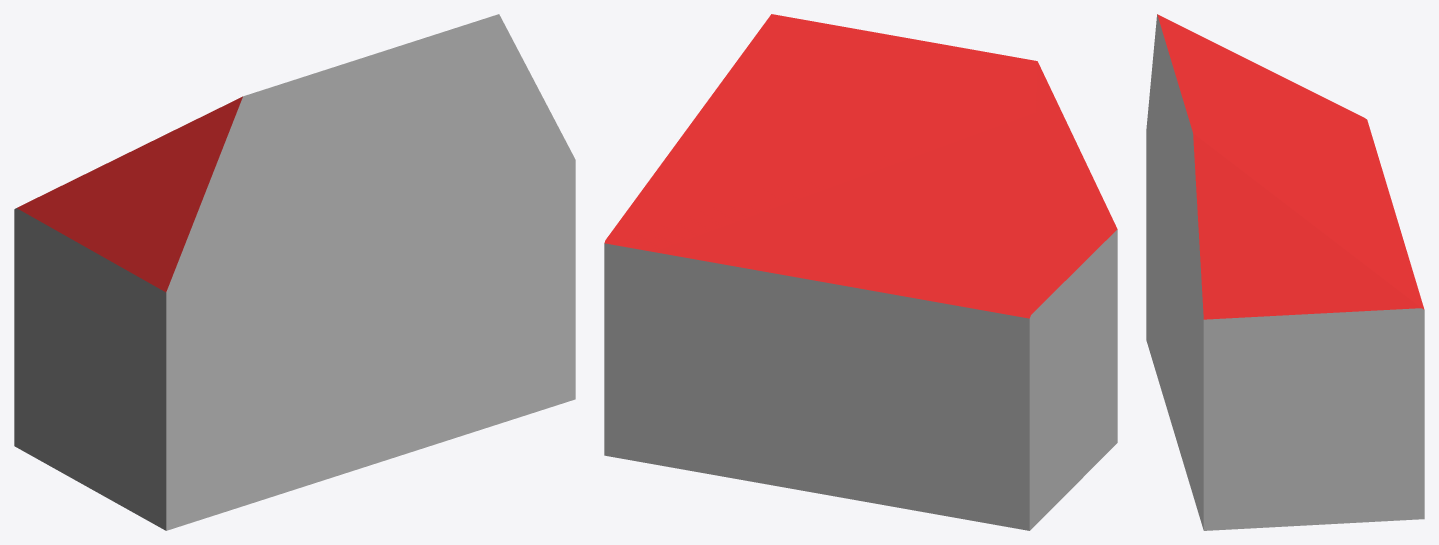
The model's file is DEBY_LOD2_4727739.dae.
The picture shows the model from 3 angles, left to right: view 1: azimuth 30°, elevation 25°; view 2: azimuth 150°, elevation 25°; view 3: azimuth 270°, elevation 25°; orthographic projection. The views are drawn at different scales.
Size of the model in its own units: 12.65 by 7.35 by 10.56.
